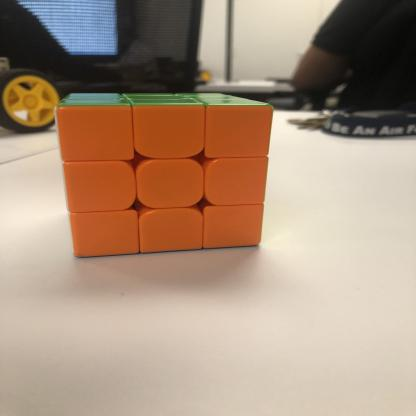SolvedCube: (49, 74, 281, 263)
